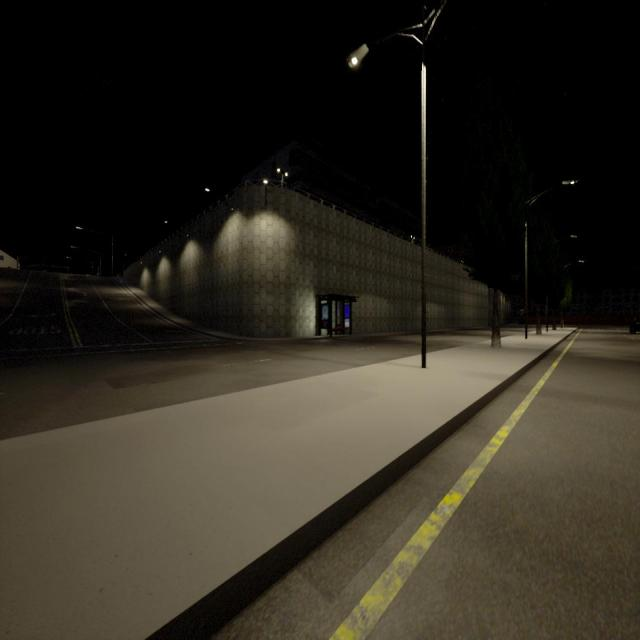Vehicle: (629, 318, 640, 333)
